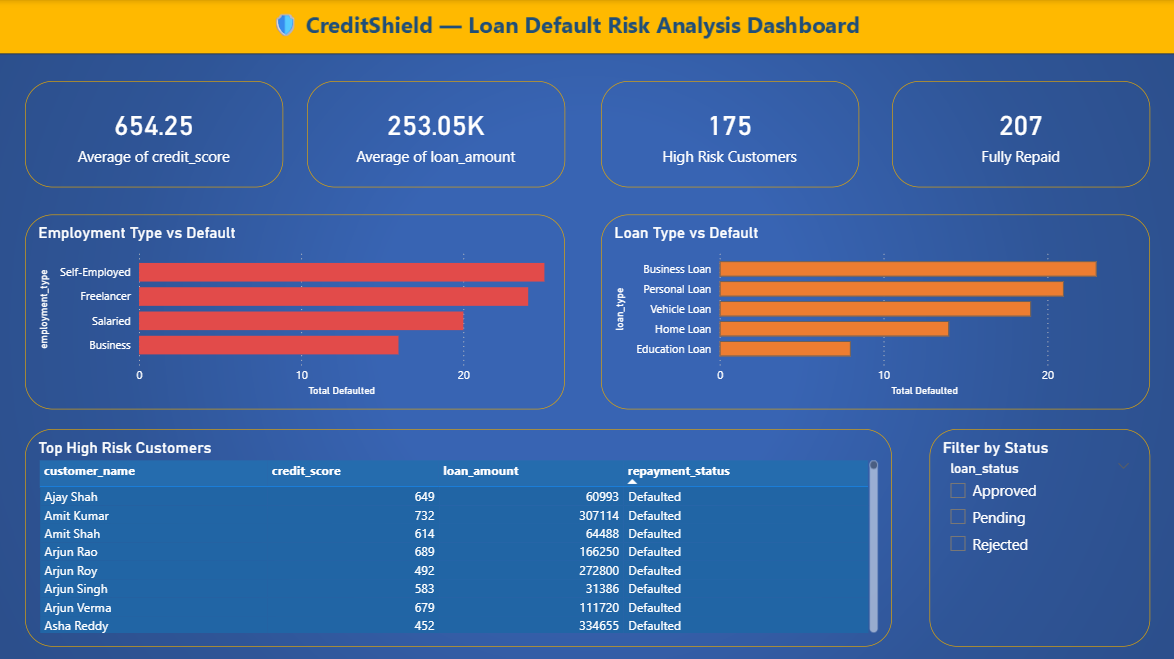

Layout of this report page (visuals, bound fields, positions):
{"tool":"powerbi","page":{"name":"Page 2","canvas":[1280,720],"ordinal":1},"visuals":[{"type":"card","fields":{"Values":["Avg(Clean_Customer.credit_score)"]},"box":[29.3,87.8,279.8,115.5],"z":0},{"type":"card","fields":{"Values":["Avg(Loan_Clean.loan_amount)"]},"box":[335.1,87.8,279.8,115.5],"z":1},{"type":"card","fields":{"Values":["Clean_Customer.High Risk Customers"]},"box":[653.9,87.8,279.8,115.5],"z":2},{"type":"card","fields":{"Values":["Loan_Clean.Fully Repaid"]},"box":[969.4,87.8,279.8,115.5],"z":3},{"type":"clusteredBarChart","title":"Employment Type vs Default","fields":{"Category":["Clean_Customer.employment_type"],"Y":["Loan_Clean.Total Defaulted"]},"box":[29.3,232.6,585.6,211.5],"z":4},{"type":"clusteredBarChart","title":"Loan Type vs Default","fields":{"Category":["Loan_Clean.loan_type"],"Y":["Loan_Clean.Total Defaulted"]},"box":[653.9,232.6,595.3,211.5],"z":5},{"type":"tableEx","title":"Top High Risk Customers","fields":{"Values":["Clean_Customer.customer_name","Clean_Customer.credit_score","Loan_Clean.loan_amount","Loan_Clean.repayment_status"]},"box":[29.3,465.2,940.1,235.8],"z":6},{"type":"slicer","title":"Filter by Status","fields":{"Values":["Loan_Clean.loan_status"]},"box":[1010.1,465.2,239.1,235.8],"z":7}]}

Visuals, with their boxes in screenshot pixels (x1, y1, x2, y2), scaled from the page's 1280x720 canvas onto the 1174x659 screenshot:
card - Avg(Clean_Customer.credit_score): box(27, 80, 284, 186)
card - Avg(Loan_Clean.loan_amount): box(307, 80, 564, 186)
card - Clean_Customer.High Risk Customers: box(600, 80, 856, 186)
card - Loan_Clean.Fully Repaid: box(889, 80, 1146, 186)
"Employment Type vs Default" clusteredBarChart: box(27, 213, 564, 406)
"Loan Type vs Default" clusteredBarChart: box(600, 213, 1146, 406)
"Top High Risk Customers" tableEx: box(27, 426, 889, 642)
"Filter by Status" slicer: box(926, 426, 1146, 642)
